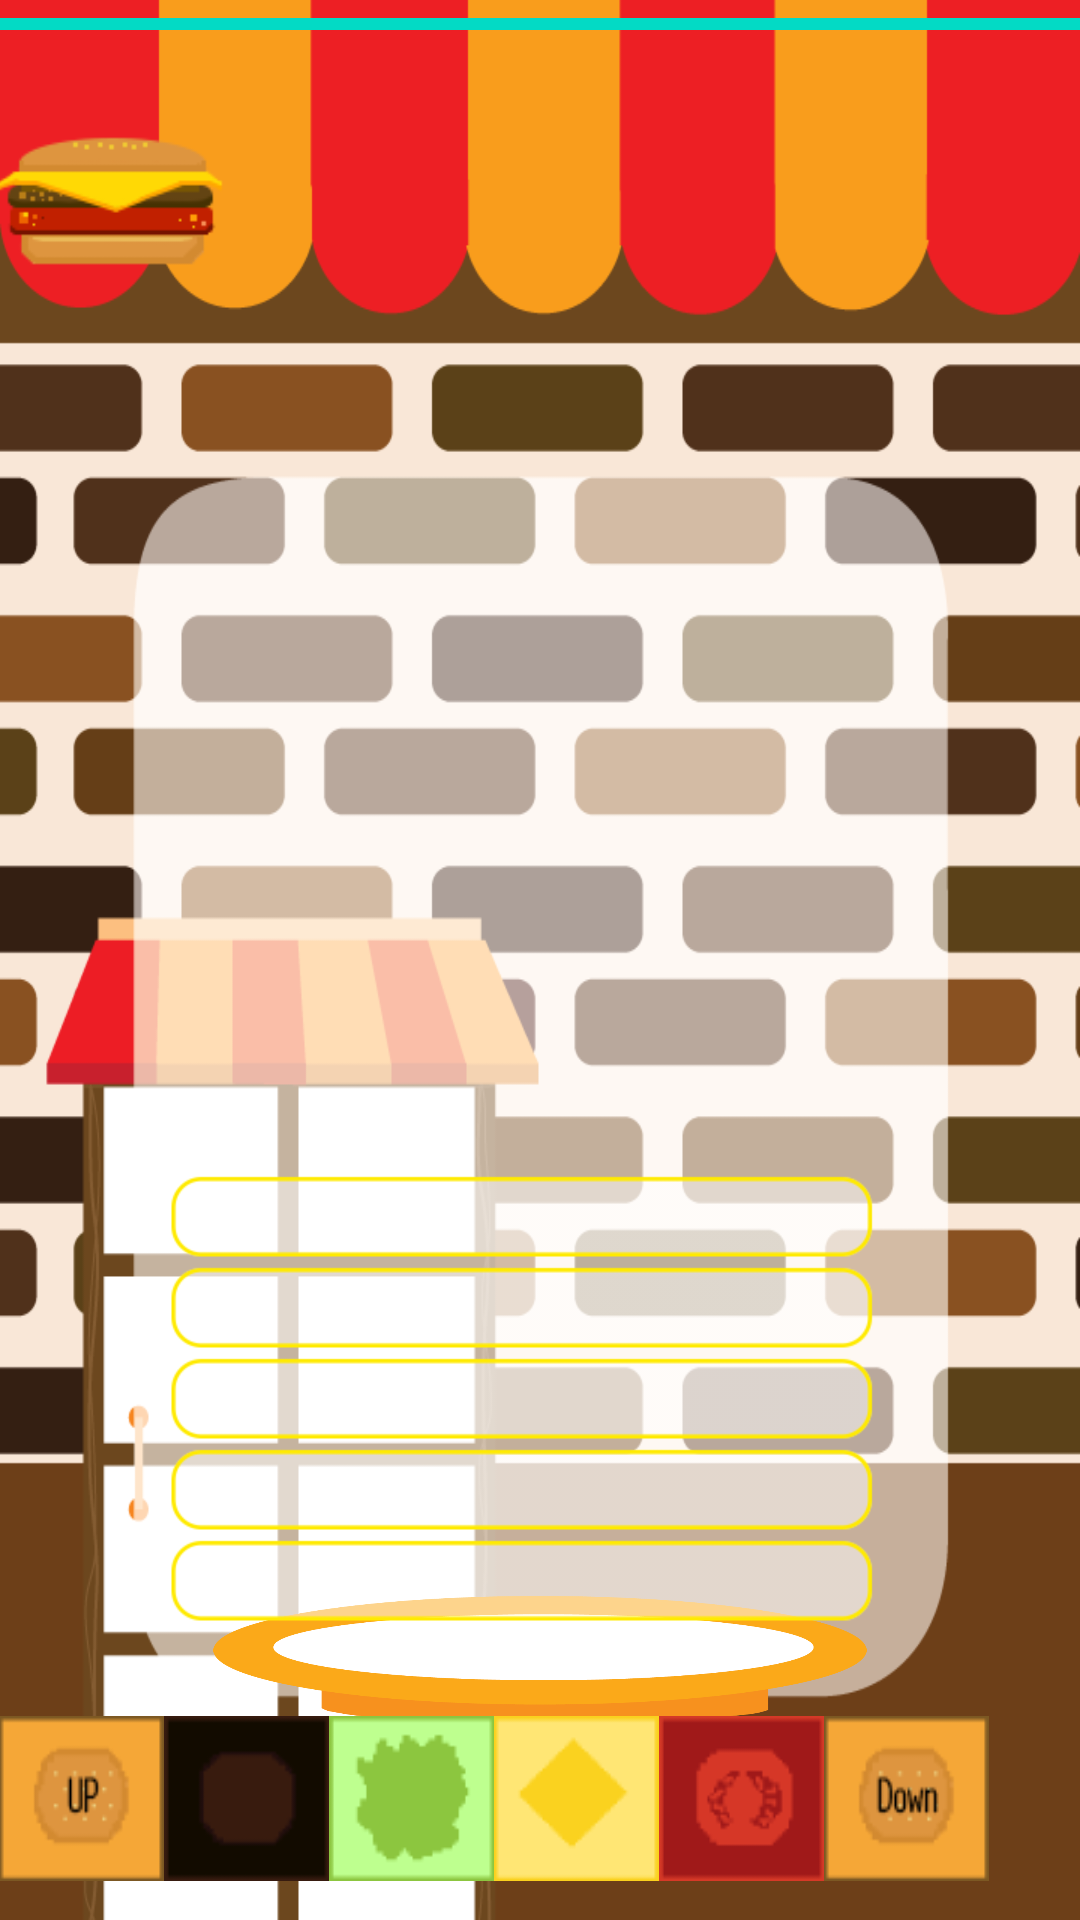

Named icons in this screenshot (1080 × 1920) and their centers, (x,y):
cheese: (576,1798)
lettuce: (411,1798)
patty: (246,1798)
tomato: (741,1798)
